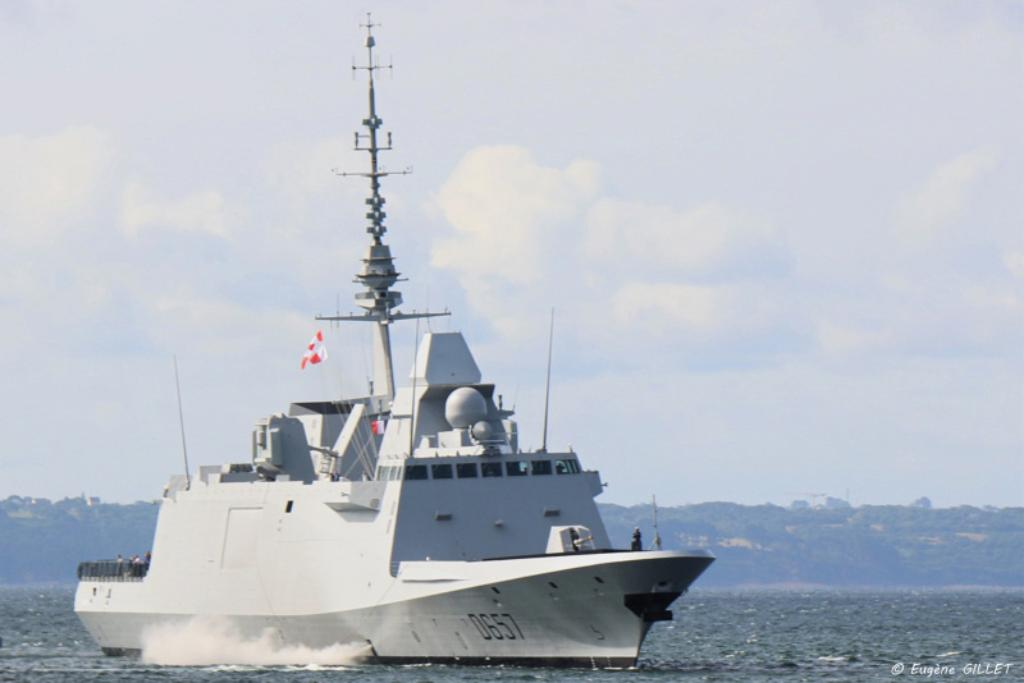Warship: (64, 9, 718, 665)
